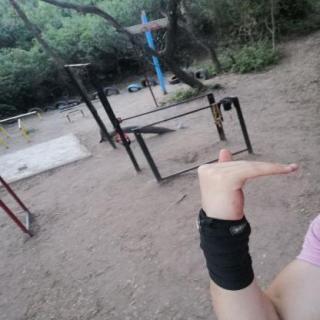KHAA: (185, 144, 311, 230)
